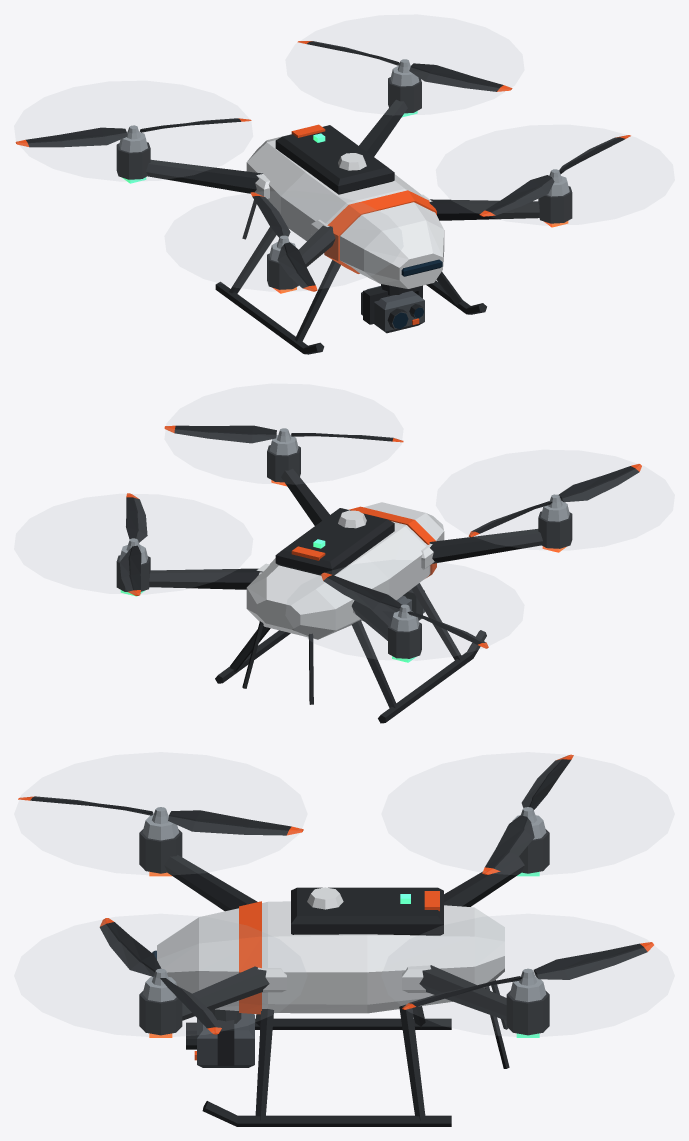
Rendered from quadcopter.glb.
The picture shows the model from 3 angles, top to bottom: view 1: azimuth 30°, elevation 25°; view 2: azimuth 150°, elevation 25°; view 3: azimuth 270°, elevation 25°; orthographic projection. The views are drawn at different scales.
Visible parts, largest first — view 1: quadcopter, rotor_blur_front_right, rotor_blur_front_left, rotor_blur_rear_left, rotor_blur_rear_right, gimbal, propeller_rear_right, propeller_rear_left, propeller_front_left, propeller_front_right; view 2: quadcopter, rotor_blur_rear_left, rotor_blur_rear_right, rotor_blur_front_right, rotor_blur_front_left, propeller_front_left, propeller_front_right, propeller_rear_right, propeller_rear_left; view 3: quadcopter, rotor_blur_rear_right, rotor_blur_front_left, rotor_blur_rear_left, rotor_blur_front_right, propeller_front_right, gimbal, propeller_rear_left, propeller_front_left, propeller_rear_right.
Part boxes in pixels (x1=…): quadcopter: x1=116, y1=65, x2=572, y2=354; rotor_blur_front_right: x1=165, y1=191, x2=402, y2=290; rotor_blur_front_left: x1=436, y1=125, x2=674, y2=224; rotor_blur_rear_left: x1=286, y1=15, x2=523, y2=114; rotor_blur_rear_right: x1=14, y1=81, x2=252, y2=180; gimbal: x1=361, y1=285, x2=424, y2=333; propeller_rear_right: x1=15, y1=118, x2=251, y2=147; propeller_rear_left: x1=297, y1=41, x2=512, y2=91; propeller_front_left: x1=479, y1=135, x2=630, y2=216; propeller_front_right: x1=250, y1=192, x2=317, y2=291; quadcopter: x1=116, y1=434, x2=572, y2=723; rotor_blur_rear_left: x1=14, y1=494, x2=252, y2=593; rotor_blur_rear_right: x1=286, y1=560, x2=523, y2=660; rotor_blur_front_right: x1=436, y1=450, x2=674, y2=549; rotor_blur_front_left: x1=165, y1=384, x2=402, y2=483; propeller_front_left: x1=164, y1=425, x2=403, y2=443; propeller_front_right: x1=468, y1=464, x2=641, y2=537; propeller_rear_right: x1=321, y1=572, x2=488, y2=648; propeller_rear_left: x1=119, y1=493, x2=147, y2=595; quadcopter: x1=139, y1=815, x2=549, y2=1126; rotor_blur_rear_right: x1=382, y1=752, x2=673, y2=875; rotor_blur_front_left: x1=15, y1=914, x2=306, y2=1036; rotor_blur_rear_left: x1=382, y1=914, x2=673, y2=1036; rotor_blur_front_right: x1=15, y1=752, x2=306, y2=875; propeller_front_right: x1=18, y1=796, x2=303, y2=835; gimbal: x1=186, y1=1013, x2=254, y2=1067; propeller_rear_left: x1=402, y1=942, x2=653, y2=1009; propeller_front_left: x1=99, y1=918, x2=221, y2=1034; propeller_rear_right: x1=482, y1=754, x2=573, y2=874.
Size of the model in its own units: 0.884 by 0.2706 by 0.864.
